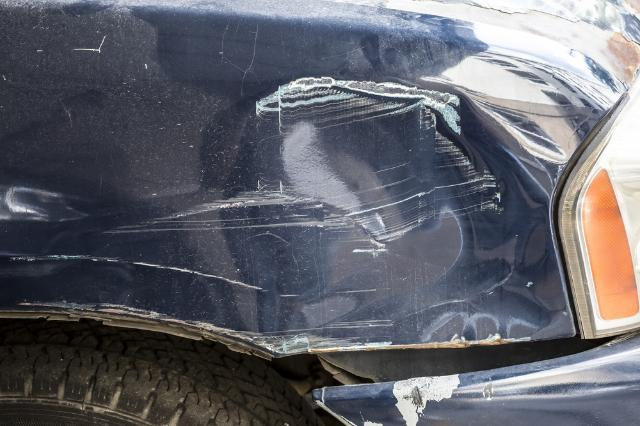dent: (286, 95, 551, 342), (6, 182, 115, 272)
scratch: (16, 301, 390, 359), (245, 72, 454, 136), (140, 180, 353, 234), (93, 255, 267, 293)
